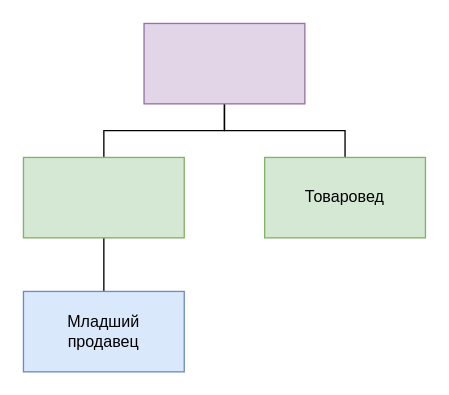
This 449x395 diagram has some shape labels left out. Here are the shapes that lost their labels. From the top down, the centre of each, then its label:
point (224, 63): Предприниматель
point (103, 197): Старший продавец
